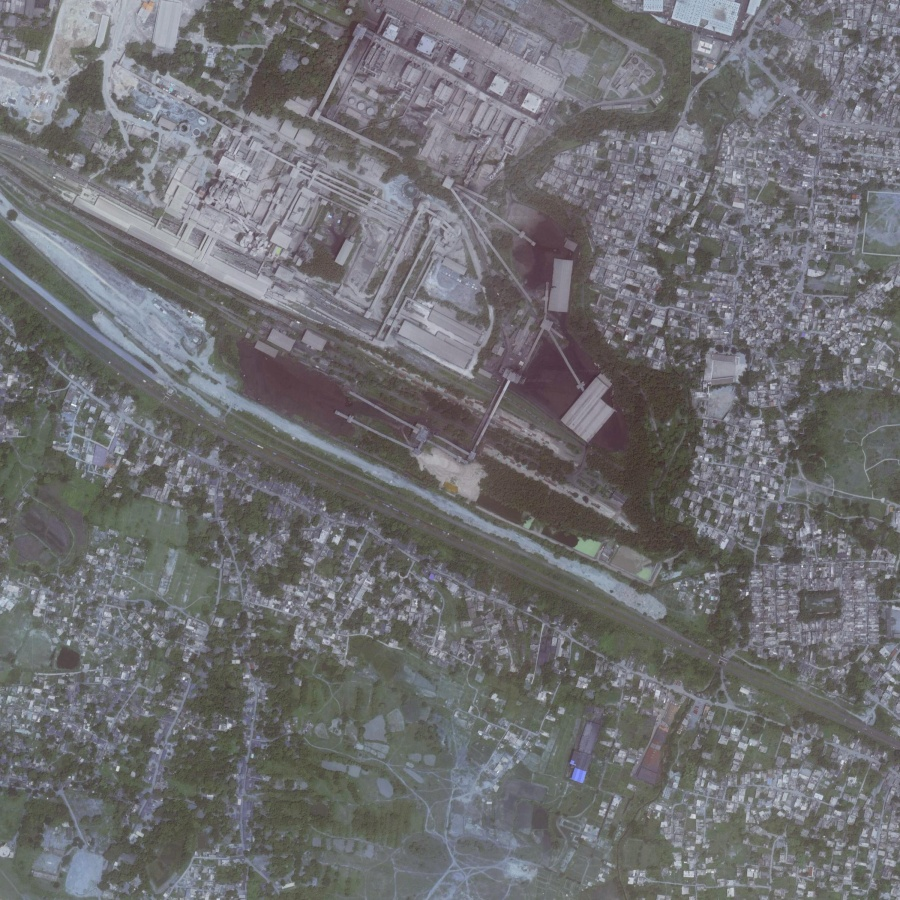PowerPlant: (158, 2, 664, 460)
